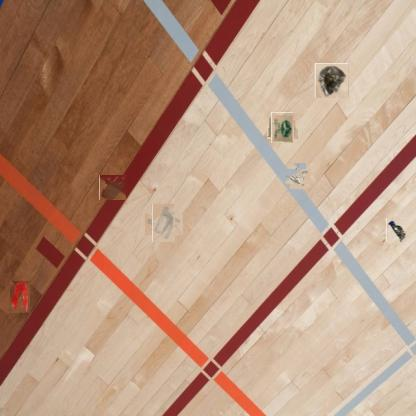dirty: (314, 64, 348, 98), (149, 208, 179, 239), (269, 114, 296, 141), (386, 218, 407, 242), (288, 166, 309, 186)
liquid: (99, 174, 126, 201), (10, 281, 30, 313)
